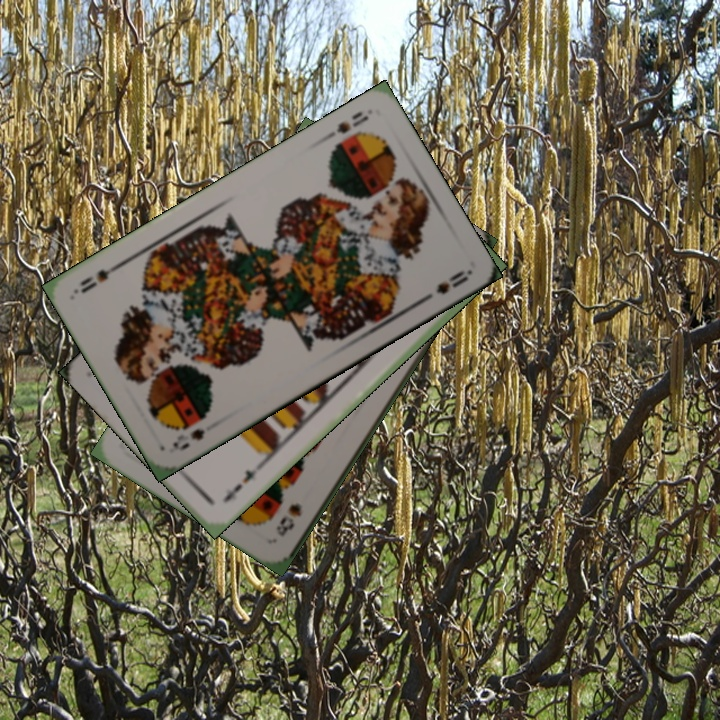E7: (219, 464, 263, 506)
S8: (271, 499, 304, 540)
SO: (320, 107, 372, 143), (168, 424, 207, 454)
